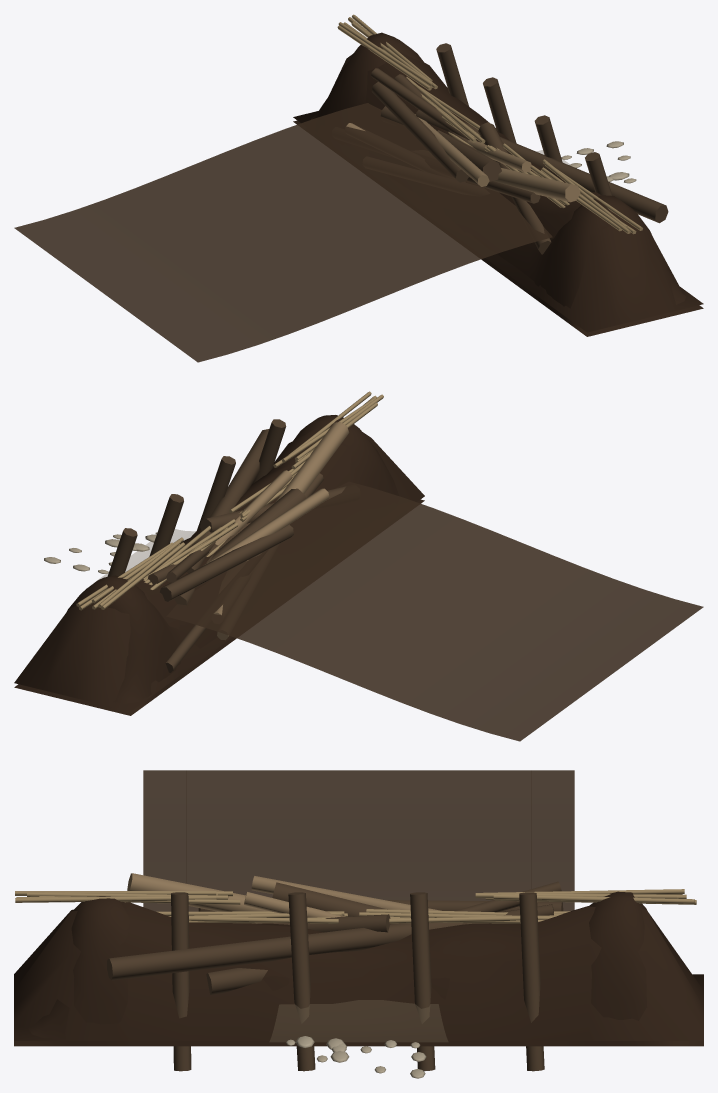
File: reed_water_purifier.glb
The picture shows the model from 3 angles, top to bottom: view 1: azimuth 30°, elevation 25°; view 2: azimuth 150°, elevation 25°; view 3: azimuth 270°, elevation 25°; orthographic projection. The views are drawn at different scales.
Parts seen in each view (by area): view 1: CheckDam_Pond, CheckDam_Core_Far, CheckDam_Core, CheckDam_Stick_2, CheckDam_Stick_5, CheckDam_Stick_1, CheckDam_Stick_15, CheckDam_Stick_9, CheckDam_Stake_2, CheckDam_Stake_3, CheckDam_Stick_10, CheckDam_Stick_0 (+4 smaller); view 2: CheckDam_Pond, CheckDam_Core_Far, CheckDam_Core, CheckDam_Stick_5, CheckDam_Stick_2, CheckDam_Stick_1, CheckDam_Stick_10, CheckDam_Stick_0, CheckDam_Stick_12, CheckDam_Stake_1, CheckDam_Stake_2, CheckDam_Stake_0 (+4 smaller); view 3: CheckDam_Core_Far, CheckDam_Pond, CheckDam_Core, CheckDam_Stick_2, CheckDam_Spill, CheckDam_Stake_1, CheckDam_Stake_3, CheckDam_Stake_2, CheckDam_Stake_0, CheckDam_Stick_1, CheckDam_Stick_0, CheckDam_Stick_10 (+15 smaller).
Boxes of the visible parts, box(x1,y1,x2,y2) form: CheckDam_Pond: box(14, 103, 552, 362); CheckDam_Core_Far: box(293, 52, 703, 332); CheckDam_Core: box(293, 32, 703, 336); CheckDam_Stick_2: box(416, 110, 668, 223); CheckDam_Stick_5: box(372, 82, 468, 182); CheckDam_Stick_1: box(493, 168, 580, 202); CheckDam_Stick_15: box(478, 122, 551, 254); CheckDam_Stick_9: box(371, 68, 469, 140); CheckDam_Stake_2: box(483, 77, 516, 143); CheckDam_Stake_3: box(436, 43, 469, 106); CheckDam_Stick_10: box(415, 114, 489, 186); CheckDam_Stick_0: box(437, 131, 501, 181); CheckDam_Pond: box(166, 481, 703, 741); CheckDam_Core_Far: box(14, 426, 424, 711); CheckDam_Core: box(14, 415, 424, 715); CheckDam_Stick_5: box(160, 524, 293, 601); CheckDam_Stick_2: box(186, 429, 269, 572); CheckDam_Stick_1: box(246, 422, 349, 561); CheckDam_Stick_10: box(203, 488, 329, 565); CheckDam_Stick_0: box(209, 488, 305, 561); CheckDam_Stick_12: box(215, 470, 292, 545); CheckDam_Stake_1: box(197, 456, 235, 530); CheckDam_Stake_2: box(149, 494, 183, 556); CheckDam_Stake_0: box(252, 419, 286, 483); CheckDam_Core_Far: box(14, 902, 703, 1040); CheckDam_Pond: box(143, 770, 574, 911); CheckDam_Core: box(14, 891, 703, 1046); CheckDam_Stick_2: box(107, 922, 462, 980); CheckDam_Spill: box(269, 1000, 448, 1041); CheckDam_Stake_1: box(288, 892, 315, 1071); CheckDam_Stake_3: box(519, 892, 544, 1071); CheckDam_Stake_2: box(410, 892, 435, 1071); CheckDam_Stake_0: box(171, 892, 191, 1071); CheckDam_Stick_1: box(127, 873, 268, 911); CheckDam_Stick_0: box(272, 882, 395, 924); CheckDam_Stick_10: box(251, 876, 441, 910).
Bounding box in the file's own units: 2.56 × 0.6107 × 2.4.
